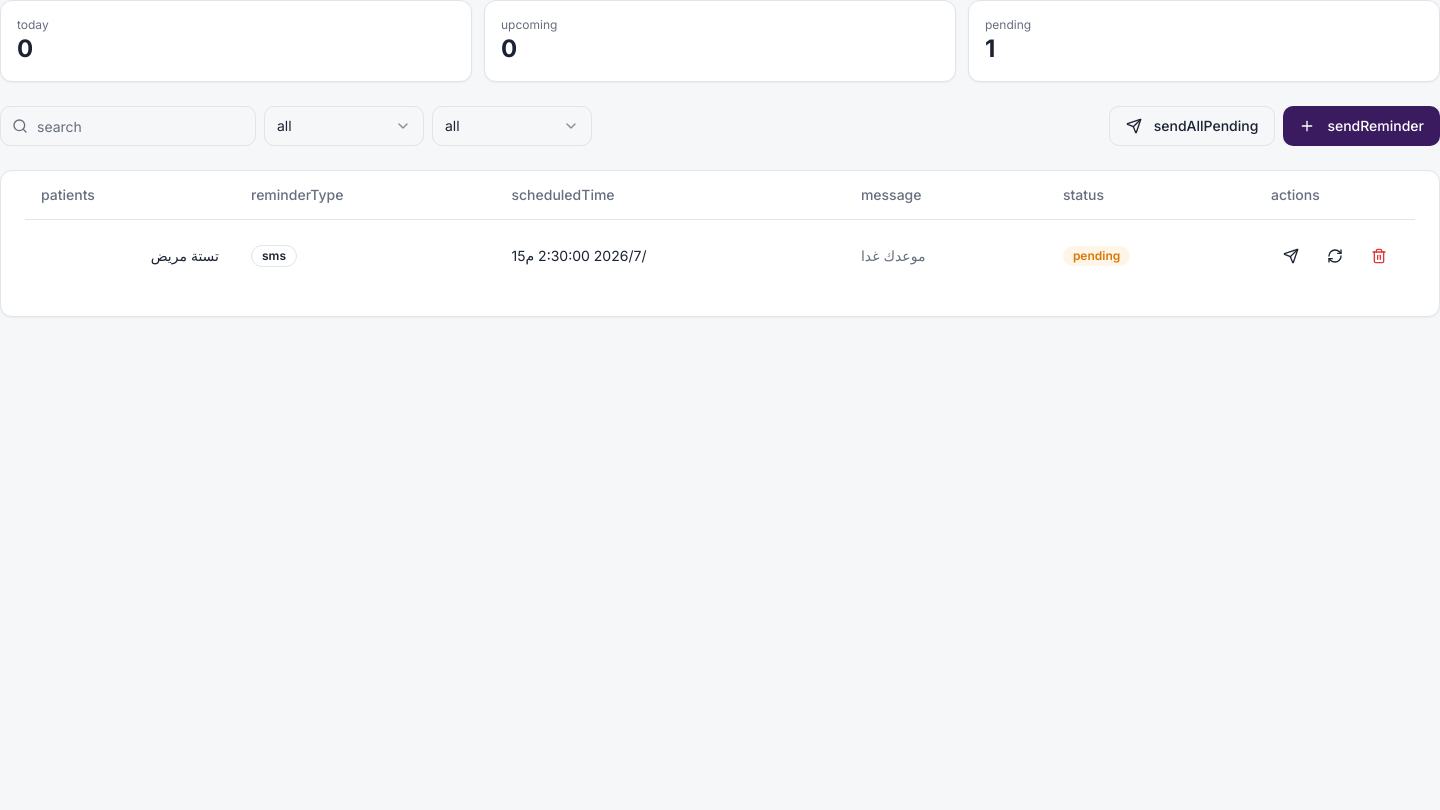
it: reschedule dialog › says the same thing in Arabic
Later steps or results of the test are not shown.
Click the button named "إعادة جدولة" at point(1335, 256), box [1315,236,1355,276]
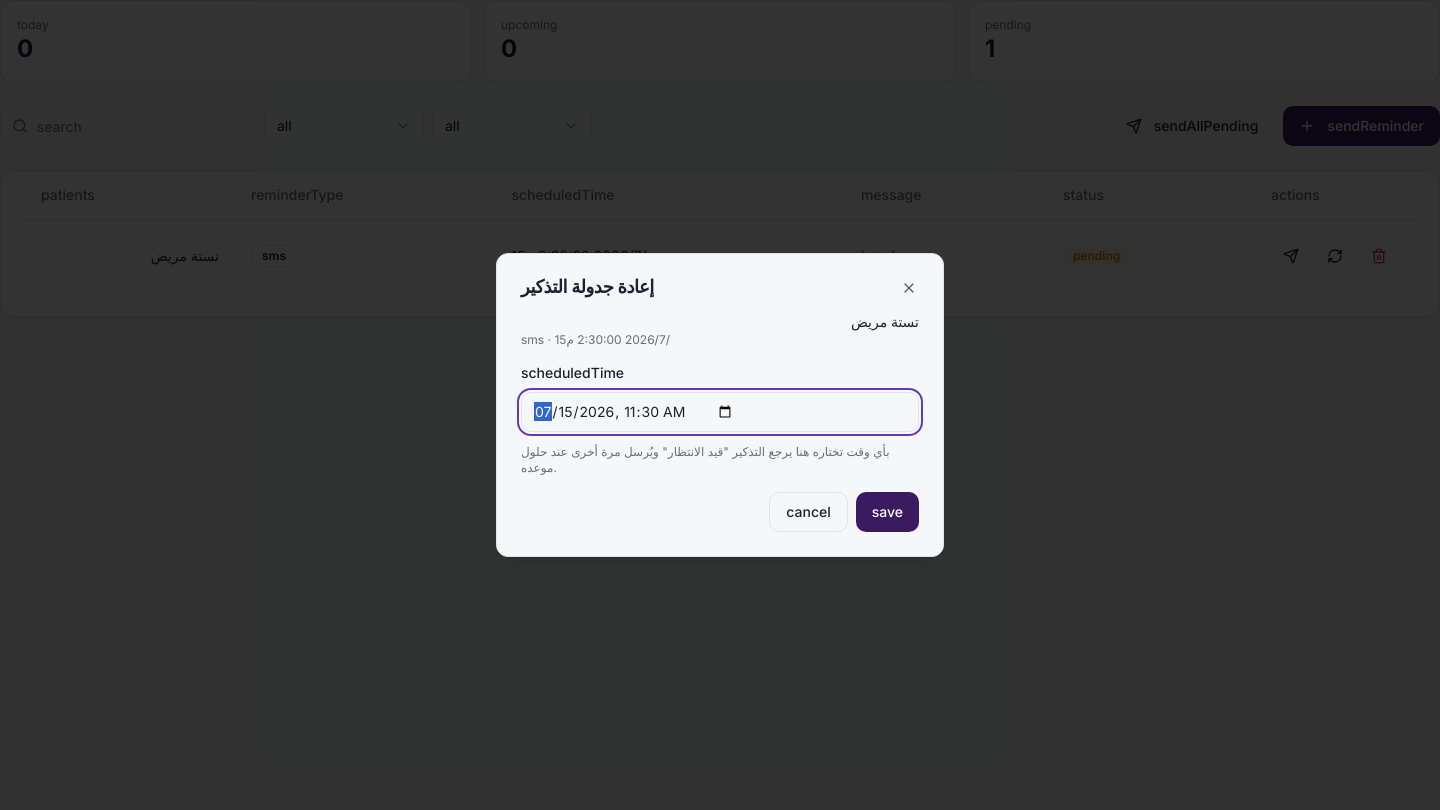
Expected: the dialog is shown, [496,253,944,557]
Expected: the heading "إعادة جدولة التذكير" is shown, [521,276,654,297]
Expected: the dialog shows "بأي وقت تختاره هنا", [521,444,890,475]
